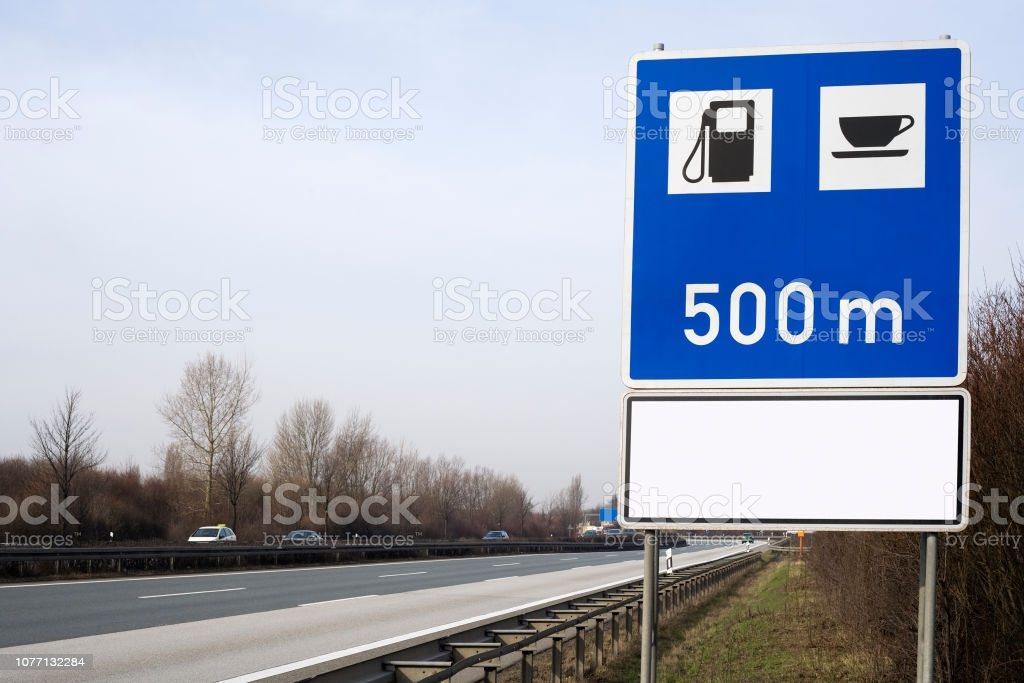fuel-station: (670, 95, 772, 193)
